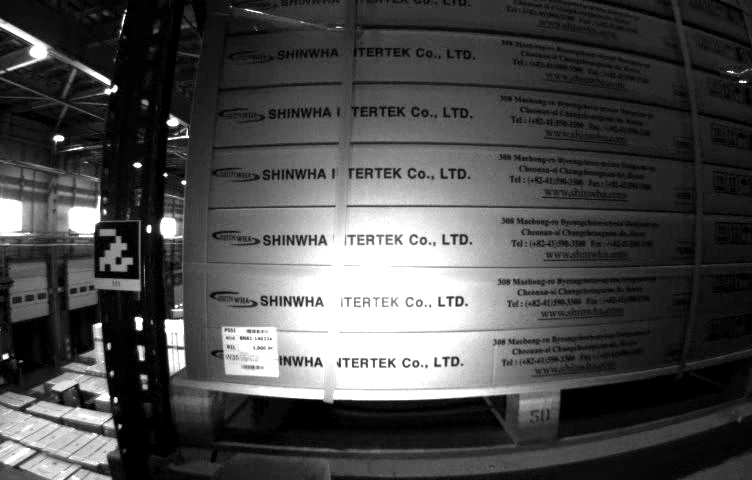True Barcode: (222, 324, 279, 380)
